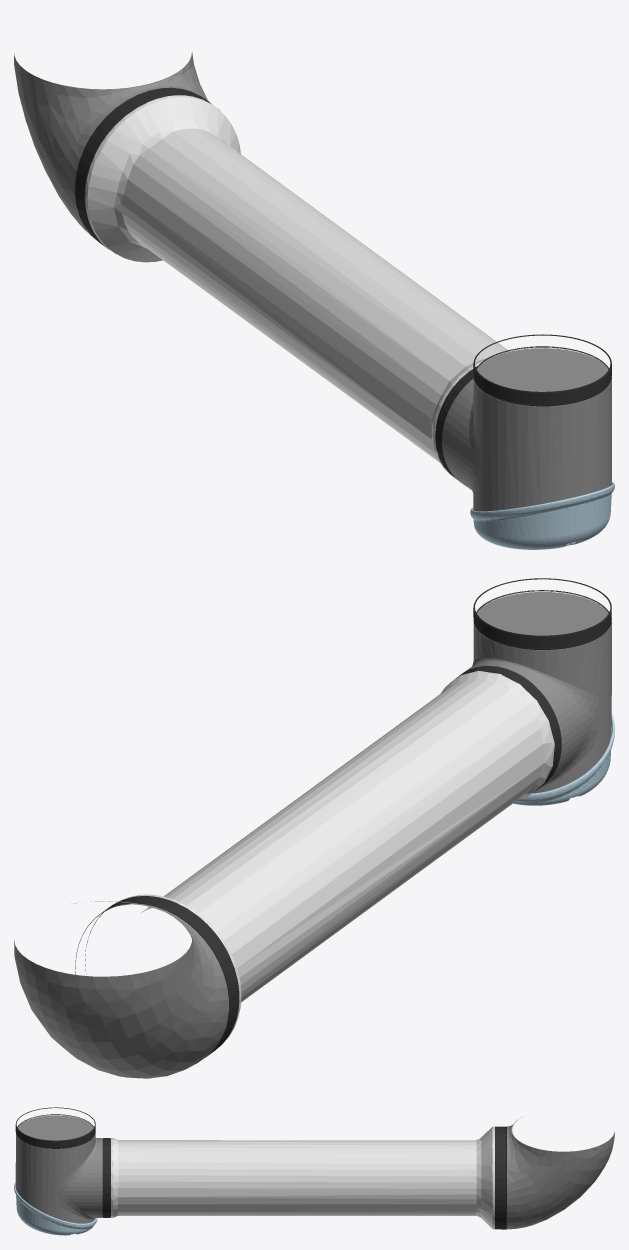
3 views of the same model, one above another, from view 1: azimuth 30°, elevation 25°; view 2: azimuth 150°, elevation 25°; view 3: azimuth 270°, elevation 25° (orthographic). The views are drawn at different scales.
Parts seen in each view (by area): view 1: /eSeries_UR10e_031/eSeries_UR10e_031-mesh/0, batched-1-material-1, batched-0-material-0, /eSeries_UR10e_017/eSeries_UR10e_056-mesh/0; view 2: /eSeries_UR10e_031/eSeries_UR10e_031-mesh/0, batched-1-material-1, batched-0-material-0, /eSeries_UR10e_017/eSeries_UR10e_056-mesh/0; view 3: /eSeries_UR10e_031/eSeries_UR10e_031-mesh/0, batched-1-material-1, batched-0-material-0, /eSeries_UR10e_017/eSeries_UR10e_056-mesh/0.
Boxes of the visible parts, left/top/right/bottom form: /eSeries_UR10e_031/eSeries_UR10e_031-mesh/0: left=85, top=95, right=509, bottom=474; batched-1-material-1: left=14, top=52, right=611, bottom=511; batched-0-material-0: left=75, top=87, right=611, bottom=479; /eSeries_UR10e_017/eSeries_UR10e_056-mesh/0: left=470, top=482, right=614, bottom=549; /eSeries_UR10e_031/eSeries_UR10e_031-mesh/0: left=115, top=670, right=554, bottom=1044; batched-1-material-1: left=14, top=592, right=611, bottom=1078; batched-0-material-0: left=75, top=578, right=611, bottom=1056; /eSeries_UR10e_017/eSeries_UR10e_056-mesh/0: left=513, top=714, right=614, bottom=805; /eSeries_UR10e_031/eSeries_UR10e_031-mesh/0: left=111, top=1126, right=494, bottom=1229; batched-1-material-1: left=15, top=1115, right=614, bottom=1229; batched-0-material-0: left=15, top=1107, right=506, bottom=1229; /eSeries_UR10e_017/eSeries_UR10e_056-mesh/0: left=14, top=1182, right=97, bottom=1235.
Bounding box in the file's own units: 0.116 × 0.1249 × 0.6764.
